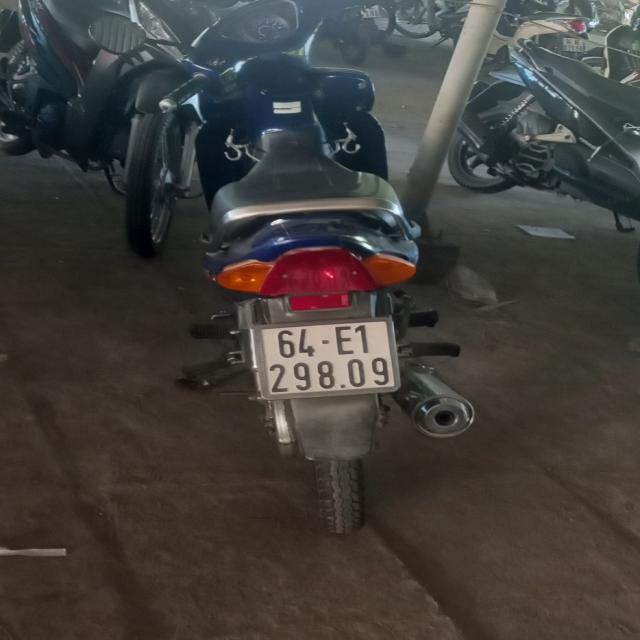0: (346, 359, 366, 387)
1: (354, 325, 369, 353)
2: (268, 363, 288, 392)
4: (296, 328, 315, 358)
6: (276, 331, 295, 358)
8: (316, 360, 334, 389)
9: (371, 357, 392, 385), (292, 362, 311, 391)
E: (334, 326, 354, 355)
